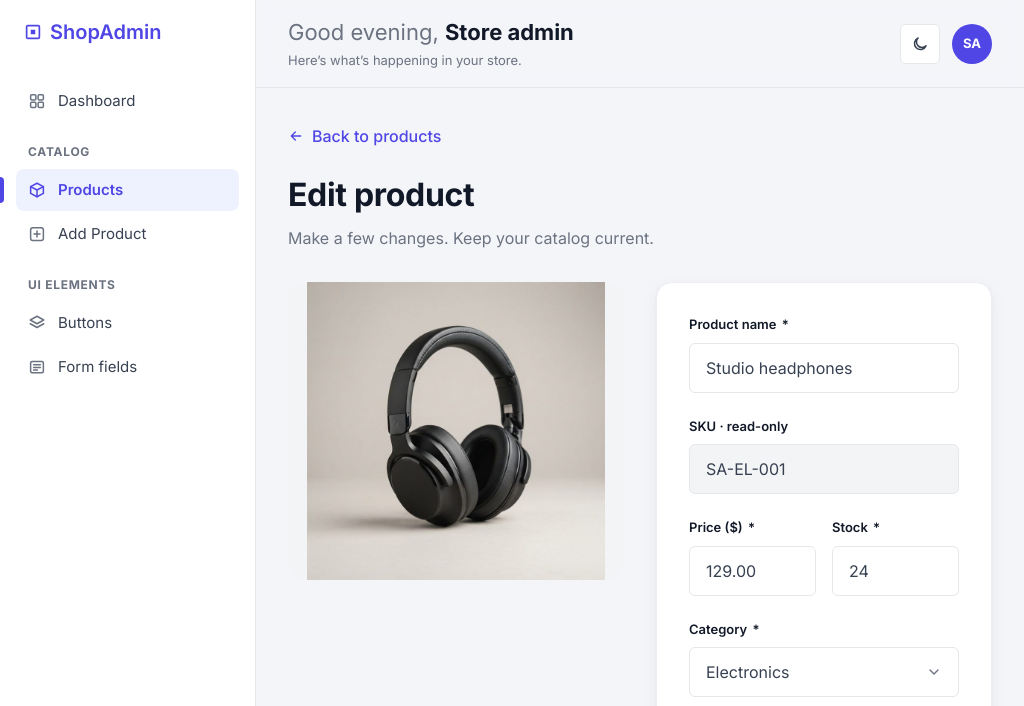
Test: Unsaved changes on Edit › asks "Leave without saving?" before navigating away
Type "0" into the number field labelled "Stock *" at (896,571), box left=832, top=546, right=959, bottom=596
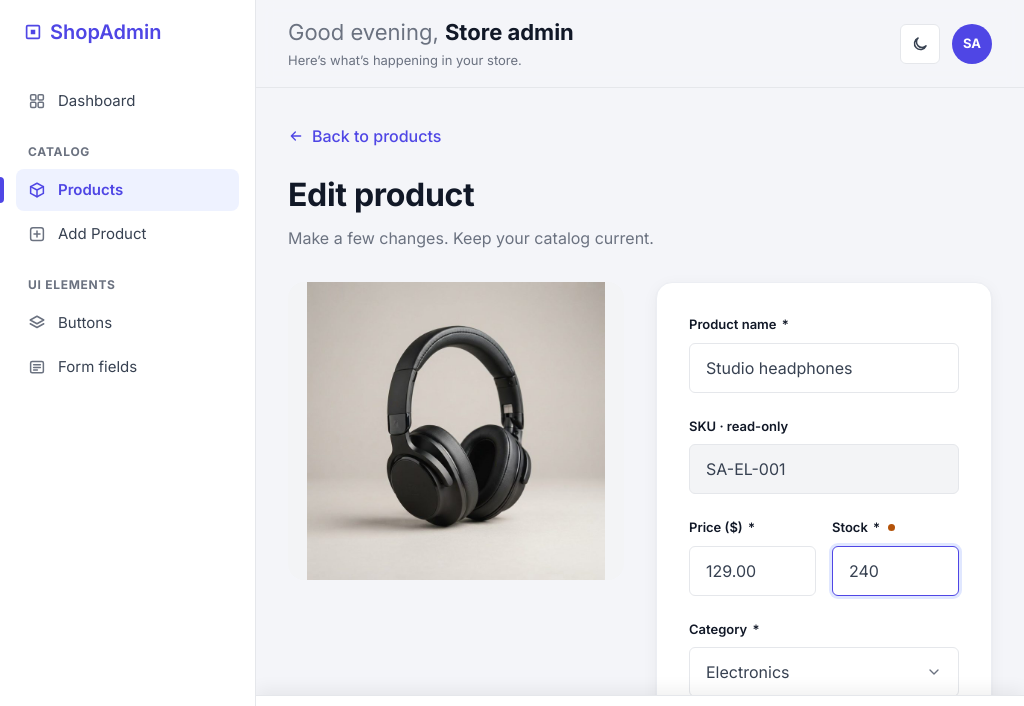
Click the link "Dashboard" at (82,101), box left=28, top=91, right=135, bottom=110
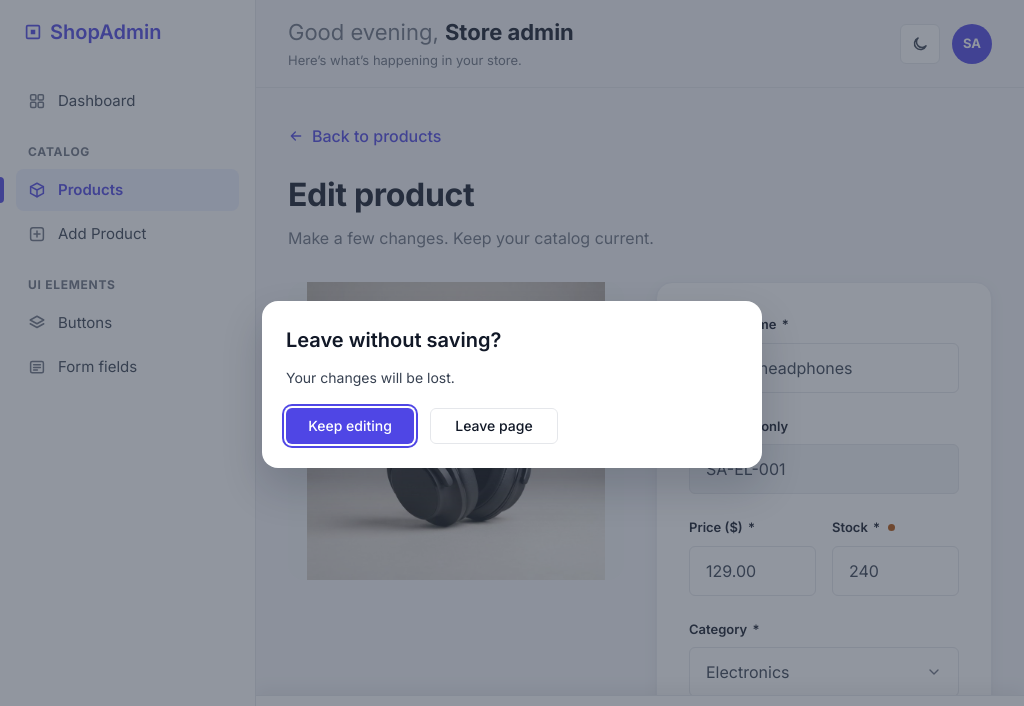
Expected: the dialog "Leave without saving?" shows "Your changes will be lost.", left=286, top=368, right=455, bottom=386
Click the button "Keep editing" at (350,426), box left=286, top=408, right=414, bottom=444
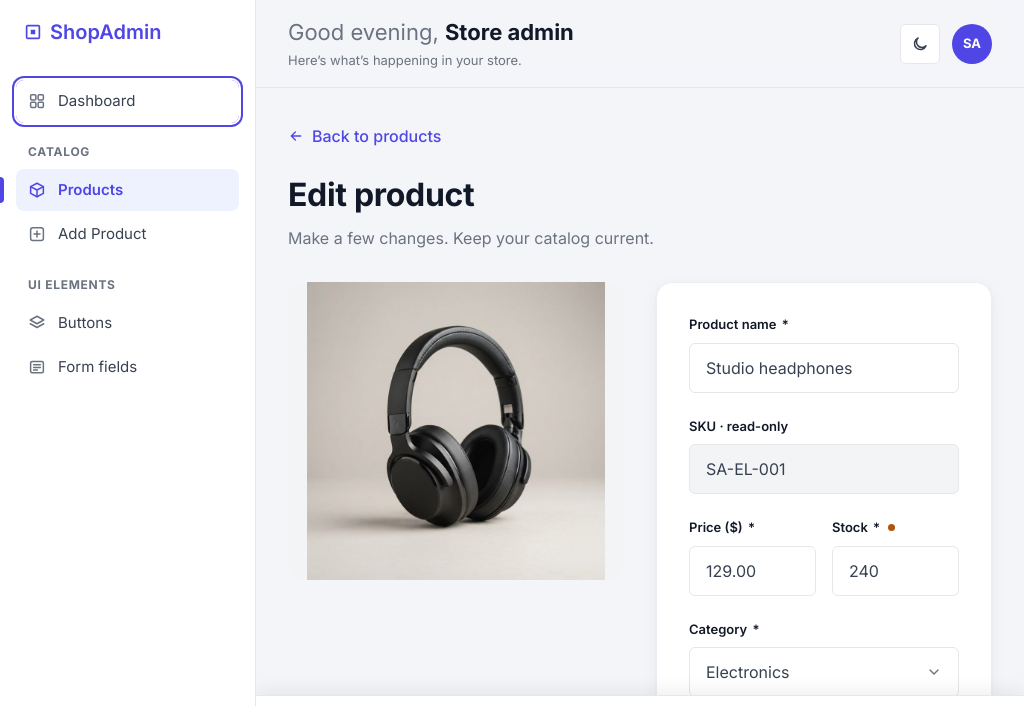
Expected: the number field labelled "Stock *" holds "240", left=832, top=546, right=959, bottom=596
Click the link "Dashboard" at (128,101), box left=16, top=80, right=239, bottom=122
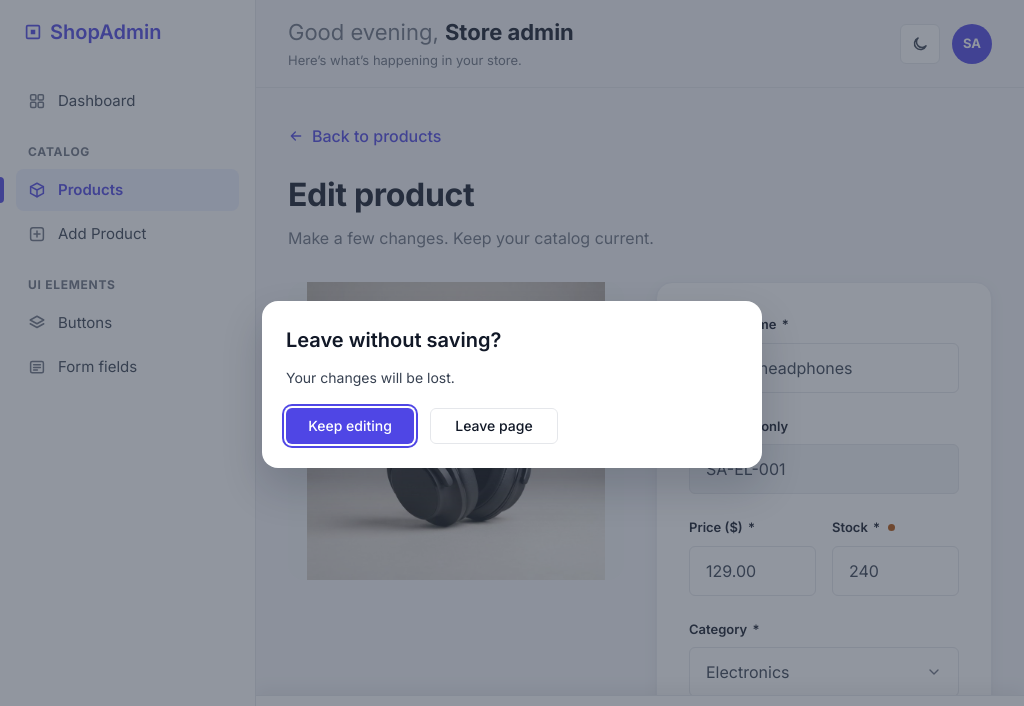
Click the button "Leave page" at (494,426), box left=430, top=408, right=558, bottom=444
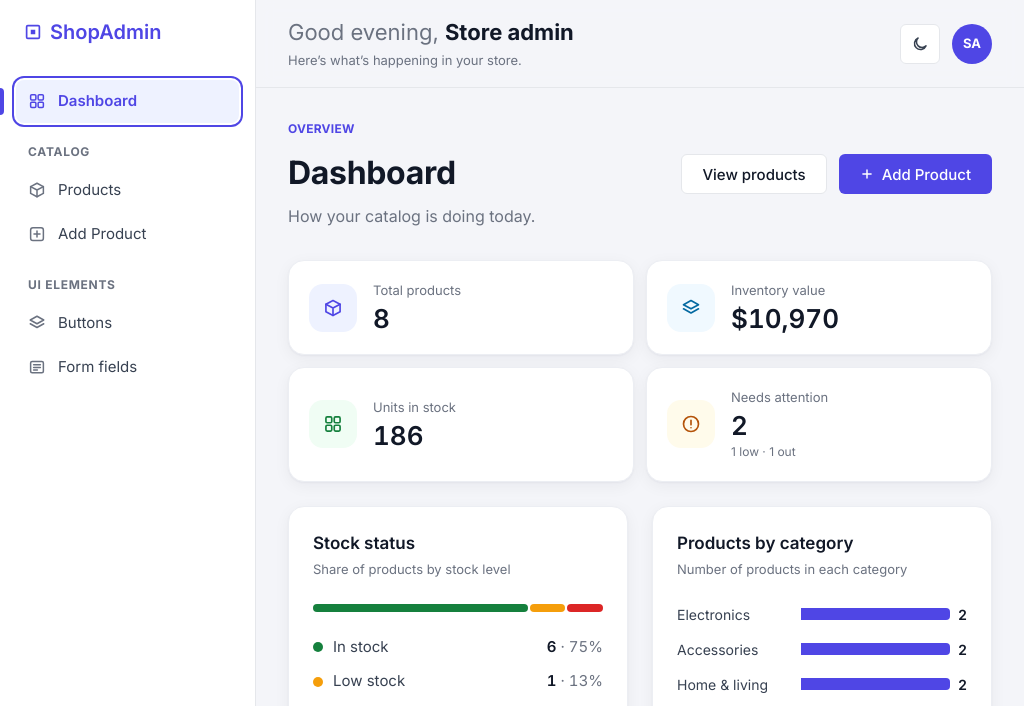
Expected: the heading "Dashboard" is shown, left=288, top=153, right=456, bottom=192
